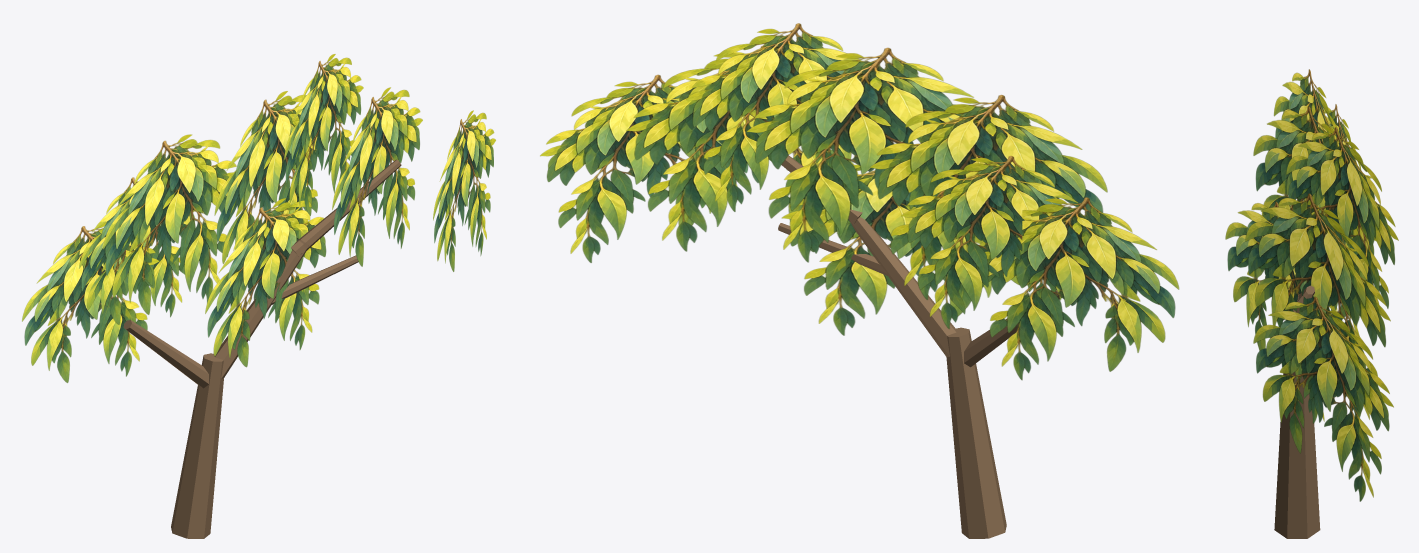
The model's file is TREE_COASTAL_WIND_001@2.0.0_LOD_GAMEPLAY.glb.
The picture shows the model from 3 angles, left to right: view 1: azimuth 30°, elevation 25°; view 2: azimuth 150°, elevation 25°; view 3: azimuth 270°, elevation 25°; orthographic projection. The views are drawn at different scales.
Parts seen in each view (by area): view 1: GG_TREE_COASTAL_WIND_001_CARD_01, GG_TREE_COASTAL_WIND_001_CARD_05, GG_TREE_COASTAL_WIND_001_CARD_00, GG_TREE_COASTAL_WIND_001_CARD_03, GG_TREE_COASTAL_WIND_001_CARD_02, GG_TREE_COASTAL_WIND_001_CARD_07, GG_TREE_COASTAL_WIND_001_LOCKED_STRUCTURE_00, GG_TREE_COASTAL_WIND_001_CARD_04, GG_TREE_COASTAL_WIND_001_CARD_06, GG_TREE_COASTAL_WIND_001_LOCKED_STRUCTURE_03, GG_TREE_COASTAL_WIND_001_LOCKED_STRUCTURE_01, GG_TREE_COASTAL_WIND_001_LOCKED_STRUCTURE_02 (+1 smaller); view 2: GG_TREE_COASTAL_WIND_001_CARD_02, GG_TREE_COASTAL_WIND_001_CARD_00, GG_TREE_COASTAL_WIND_001_CARD_01, GG_TREE_COASTAL_WIND_001_CARD_06, GG_TREE_COASTAL_WIND_001_CARD_04, GG_TREE_COASTAL_WIND_001_CARD_07, GG_TREE_COASTAL_WIND_001_CARD_03, GG_TREE_COASTAL_WIND_001_CARD_05, GG_TREE_COASTAL_WIND_001_LOCKED_STRUCTURE_00, GG_TREE_COASTAL_WIND_001_LOCKED_STRUCTURE_01, GG_TREE_COASTAL_WIND_001_LOCKED_STRUCTURE_03; view 3: GG_TREE_COASTAL_WIND_001_CARD_04, GG_TREE_COASTAL_WIND_001_CARD_03, GG_TREE_COASTAL_WIND_001_CARD_07, GG_TREE_COASTAL_WIND_001_LOCKED_STRUCTURE_00, GG_TREE_COASTAL_WIND_001_CARD_02, GG_TREE_COASTAL_WIND_001_CARD_05, GG_TREE_COASTAL_WIND_001_CARD_01, GG_TREE_COASTAL_WIND_001_CARD_06.
Boxes of the visible parts, left/top/right/bottom form: GG_TREE_COASTAL_WIND_001_CARD_01: left=103, top=134, right=236, bottom=314; GG_TREE_COASTAL_WIND_001_CARD_05: left=205, top=198, right=326, bottom=367; GG_TREE_COASTAL_WIND_001_CARD_00: left=22, top=222, right=159, bottom=382; GG_TREE_COASTAL_WIND_001_CARD_03: left=332, top=87, right=422, bottom=266; GG_TREE_COASTAL_WIND_001_CARD_02: left=214, top=91, right=323, bottom=263; GG_TREE_COASTAL_WIND_001_CARD_07: left=284, top=54, right=363, bottom=215; GG_TREE_COASTAL_WIND_001_LOCKED_STRUCTURE_00: left=171, top=353, right=223, bottom=538; GG_TREE_COASTAL_WIND_001_CARD_04: left=433, top=110, right=495, bottom=271; GG_TREE_COASTAL_WIND_001_CARD_06: left=79, top=177, right=195, bottom=324; GG_TREE_COASTAL_WIND_001_LOCKED_STRUCTURE_03: left=123, top=320, right=208, bottom=388; GG_TREE_COASTAL_WIND_001_LOCKED_STRUCTURE_01: left=214, top=239, right=308, bottom=379; GG_TREE_COASTAL_WIND_001_LOCKED_STRUCTURE_02: left=291, top=159, right=401, bottom=256; GG_TREE_COASTAL_WIND_001_CARD_02: left=746, top=47, right=973, bottom=262; GG_TREE_COASTAL_WIND_001_CARD_00: left=979, top=197, right=1179, bottom=380; GG_TREE_COASTAL_WIND_001_CARD_01: left=870, top=95, right=1107, bottom=299; GG_TREE_COASTAL_WIND_001_CARD_06: left=901, top=156, right=1083, bottom=328; GG_TREE_COASTAL_WIND_001_CARD_04: left=540, top=74, right=748, bottom=262; GG_TREE_COASTAL_WIND_001_CARD_07: left=686, top=23, right=861, bottom=211; GG_TREE_COASTAL_WIND_001_CARD_03: left=626, top=46, right=857, bottom=251; GG_TREE_COASTAL_WIND_001_CARD_05: left=782, top=164, right=1019, bottom=335; GG_TREE_COASTAL_WIND_001_LOCKED_STRUCTURE_00: left=946, top=327, right=1006, bottom=538; GG_TREE_COASTAL_WIND_001_LOCKED_STRUCTURE_01: left=848, top=217, right=956, bottom=356; GG_TREE_COASTAL_WIND_001_LOCKED_STRUCTURE_03: left=964, top=290, right=1059, bottom=367; GG_TREE_COASTAL_WIND_001_CARD_04: left=1253, top=296, right=1393, bottom=501; GG_TREE_COASTAL_WIND_001_CARD_03: left=1245, top=193, right=1390, bottom=419; GG_TREE_COASTAL_WIND_001_CARD_07: left=1286, top=127, right=1398, bottom=308; GG_TREE_COASTAL_WIND_001_LOCKED_STRUCTURE_00: left=1274, top=373, right=1320, bottom=538; GG_TREE_COASTAL_WIND_001_CARD_02: left=1253, top=106, right=1376, bottom=335; GG_TREE_COASTAL_WIND_001_CARD_05: left=1225, top=201, right=1335, bottom=423; GG_TREE_COASTAL_WIND_001_CARD_01: left=1274, top=69, right=1341, bottom=309; GG_TREE_COASTAL_WIND_001_CARD_06: left=1323, top=104, right=1360, bottom=247.
Bounding box in the file's own units: 53.43 × 41.26 × 14.15.
Materials: 2 (1 with a texture image).
